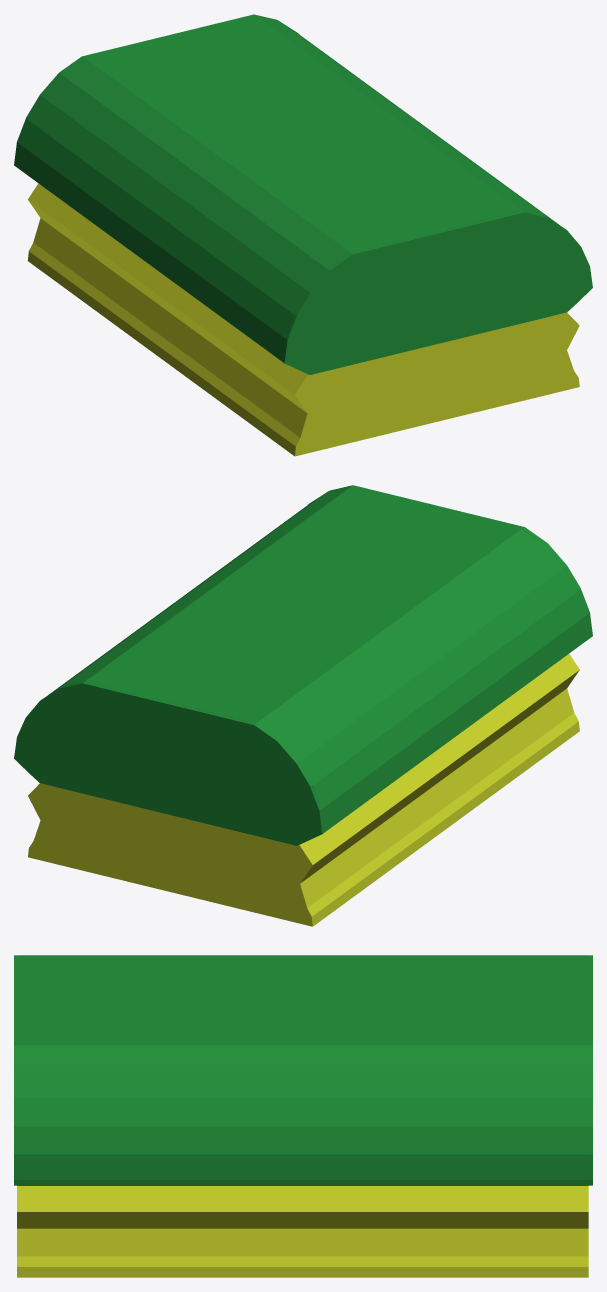
The model's file is final scrubber.fbx.
The picture shows the model from 3 angles, top to bottom: view 1: azimuth 30°, elevation 25°; view 2: azimuth 150°, elevation 25°; view 3: azimuth 270°, elevation 25°; orthographic projection. The views are drawn at different scales.
Visible parts, largest first — view 1: Cylinder; view 2: Cylinder; view 3: Cylinder.
Part boxes in pixels (box(x1,y1,x2,y2)): Cylinder: box(14, 14, 592, 456); Cylinder: box(14, 485, 592, 926); Cylinder: box(14, 955, 592, 1277).
Size of the model in its own units: 200 by 117 by 304.
